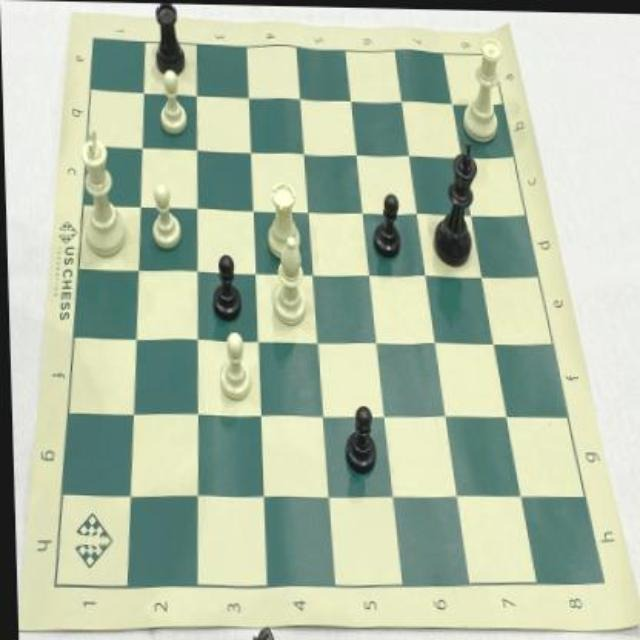black-king: (422, 134, 483, 272)
black-pawn: (366, 186, 406, 262), (340, 398, 378, 478), (205, 247, 245, 322)
black-rook: (149, 3, 189, 81)
white-bishop: (267, 232, 309, 332)
white-king: (72, 120, 132, 263)
white-pawn: (211, 327, 254, 403), (152, 61, 193, 136), (145, 175, 183, 255)
white-queen: (453, 30, 508, 146)
white-rook: (258, 172, 307, 264)
